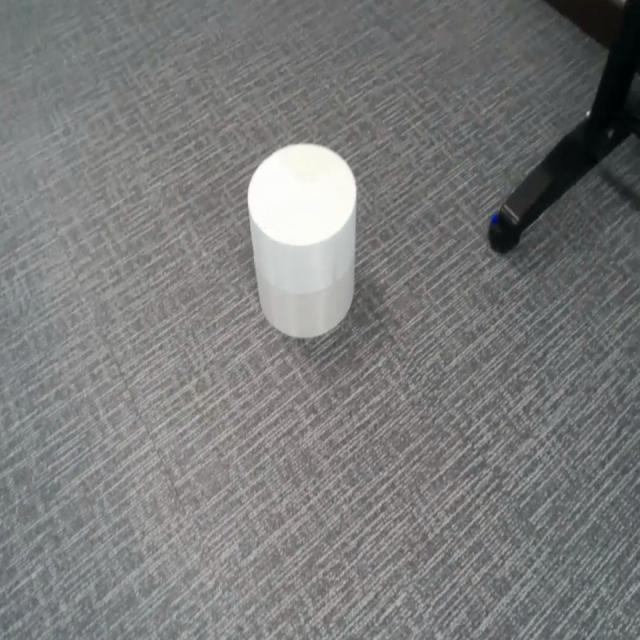cylinder: (248, 140, 358, 334)
